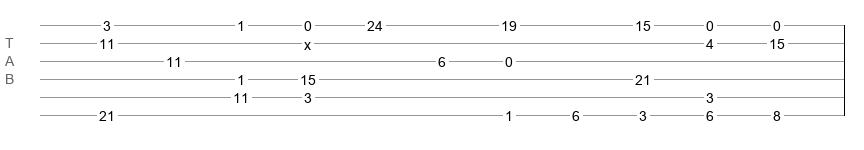0: (304, 18, 312, 28), (505, 54, 513, 64), (706, 18, 714, 28), (773, 18, 781, 28)
1: (237, 72, 245, 82), (237, 18, 245, 28), (505, 108, 513, 118)
11: (99, 36, 115, 46), (166, 54, 182, 64), (233, 90, 249, 100)
15: (300, 72, 316, 82), (635, 18, 651, 28), (769, 36, 785, 46)
19: (501, 18, 517, 28)
21: (99, 108, 115, 118), (635, 72, 651, 82)
24: (367, 18, 383, 28)
3: (103, 18, 111, 28), (304, 90, 312, 100), (639, 108, 647, 118), (706, 90, 714, 100)
4: (706, 36, 714, 46)
6: (438, 54, 446, 64), (572, 108, 580, 118), (706, 108, 714, 118)
8: (773, 108, 781, 118)
x: (304, 37, 311, 45)
